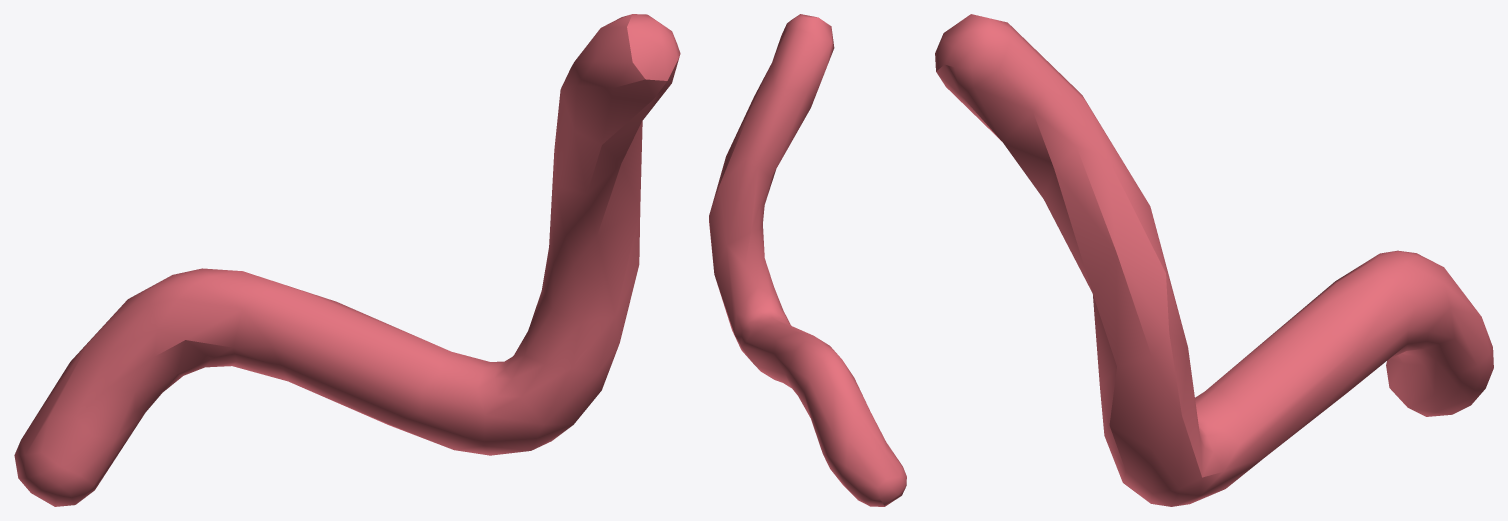
Rendered from fma50029_fj5021.glb.
3 renders of one model, left to right at view 1: azimuth 30°, elevation 25°; view 2: azimuth 150°, elevation 25°; view 3: azimuth 270°, elevation 25°, orthographic. The views are drawn at different scales.
Parts seen in each view (by area): view 1: FMA50029_FJ5021; view 2: FMA50029_FJ5021; view 3: FMA50029_FJ5021.
Boxes of the visible parts, x1=… form: FMA50029_FJ5021: x1=14, y1=14, x2=680, y2=506; FMA50029_FJ5021: x1=709, y1=14, x2=906, y2=506; FMA50029_FJ5021: x1=935, y1=14, x2=1493, y2=506.
Size of the model in its own units: 0.0118 by 0.0137 by 0.0123.
